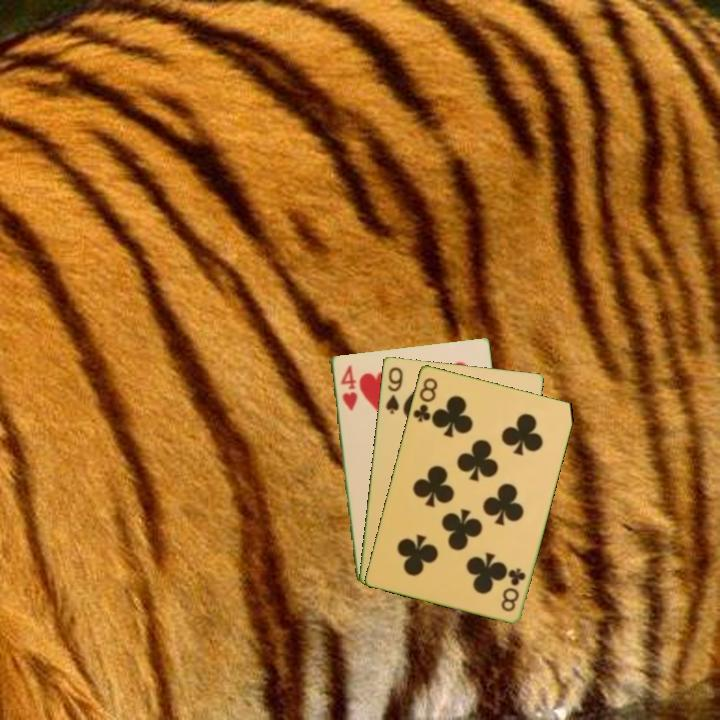4h: (337, 361, 359, 413)
8c: (409, 374, 440, 425), (497, 564, 528, 614)
9s: (382, 363, 405, 417)
